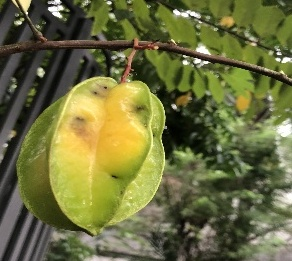Khe: (14, 75, 166, 238)
